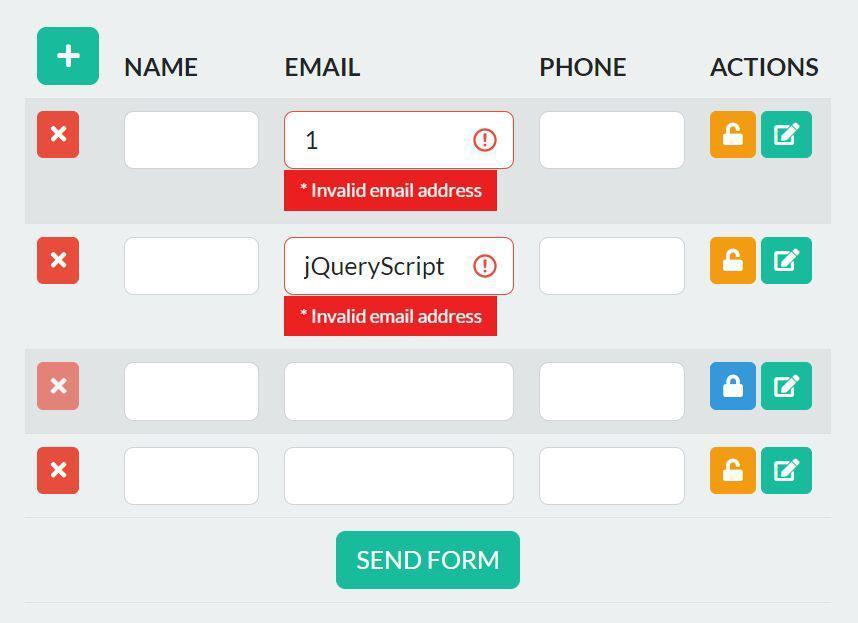button: (338, 533, 521, 590)
icon: (772, 372, 805, 405), (771, 120, 803, 153), (773, 455, 805, 485), (772, 248, 805, 277), (721, 373, 752, 402), (53, 43, 81, 72), (46, 121, 73, 150), (721, 247, 750, 274), (723, 455, 749, 485), (48, 372, 72, 402), (722, 119, 746, 148), (48, 247, 71, 274), (49, 457, 71, 485)
input: (284, 446, 516, 508), (283, 363, 514, 424), (285, 238, 515, 298), (286, 113, 516, 171), (537, 362, 689, 424), (538, 446, 689, 508), (537, 237, 688, 298), (538, 111, 687, 171), (124, 110, 261, 172), (123, 361, 261, 422), (121, 446, 261, 506), (124, 236, 262, 296)
label: (710, 55, 821, 81), (540, 53, 632, 80), (280, 55, 364, 80), (123, 57, 203, 80)
